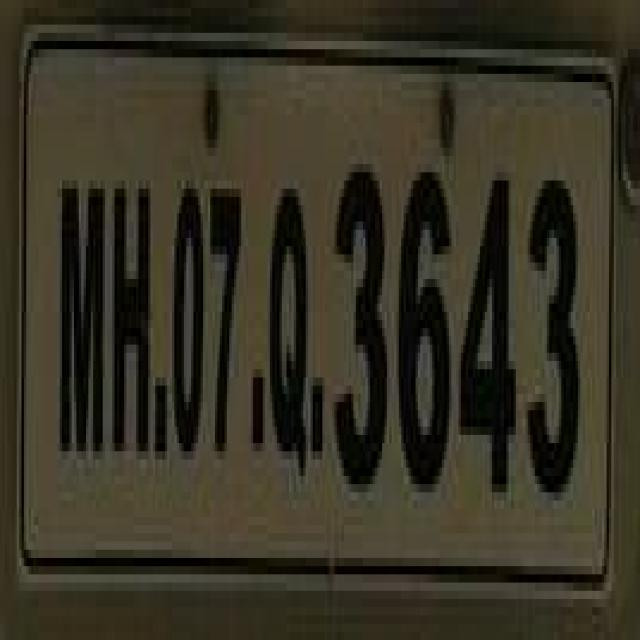license_plate: (26, 41, 640, 574)
